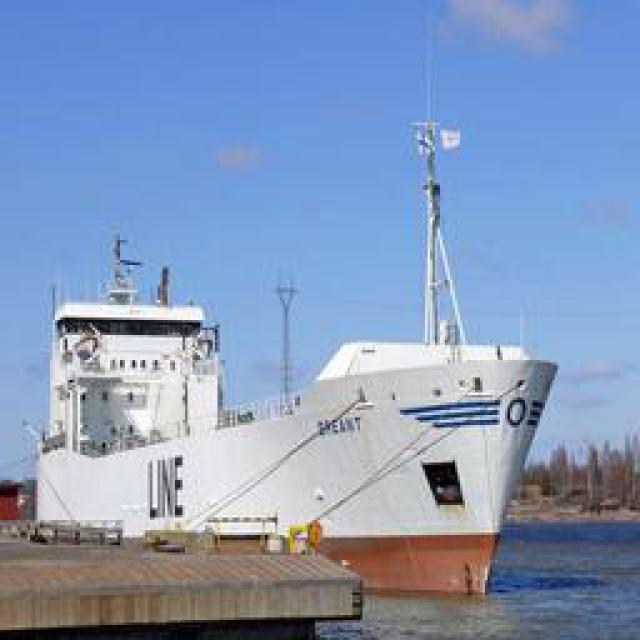Ship: (71, 115, 544, 590)
